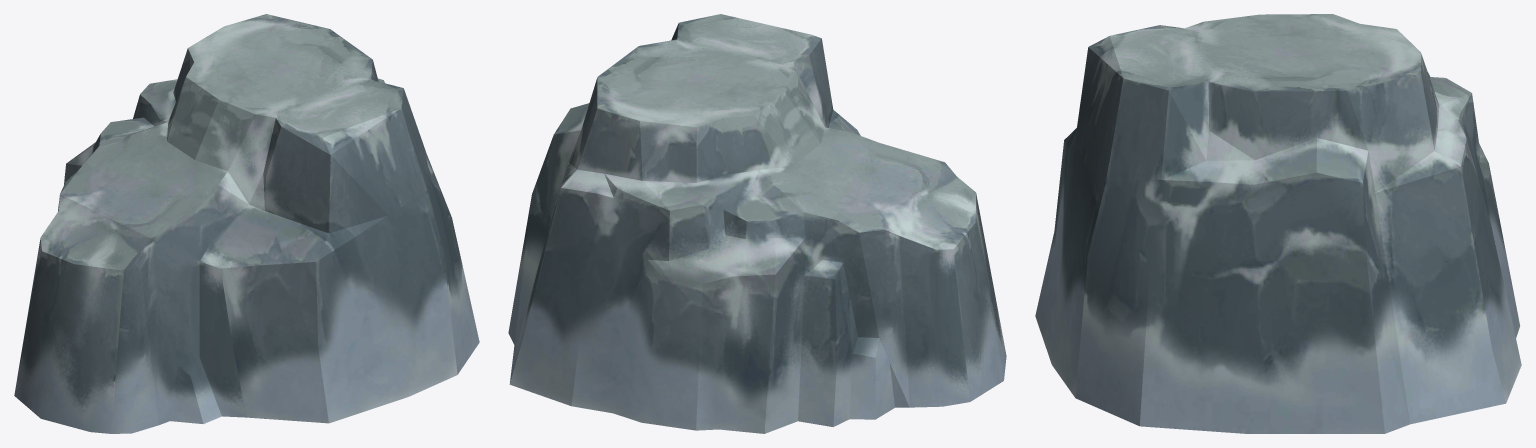
The model's file is map_114_shitou_2.fbx.
3 views of the same model, side by side, from view 1: azimuth 30°, elevation 25°; view 2: azimuth 150°, elevation 25°; view 3: azimuth 270°, elevation 25° (orthographic). The views are drawn at different scales.
Visible parts, largest first — view 1: map_114_shitou_2; view 2: map_114_shitou_2; view 3: map_114_shitou_2.
Part boxes in pixels (x1,y1,x2,y2): map_114_shitou_2: [14, 14, 479, 433]; map_114_shitou_2: [508, 14, 1006, 433]; map_114_shitou_2: [1035, 14, 1521, 433].
Bounding box in the file's own units: 7.25 × 4.31 × 6.3.
